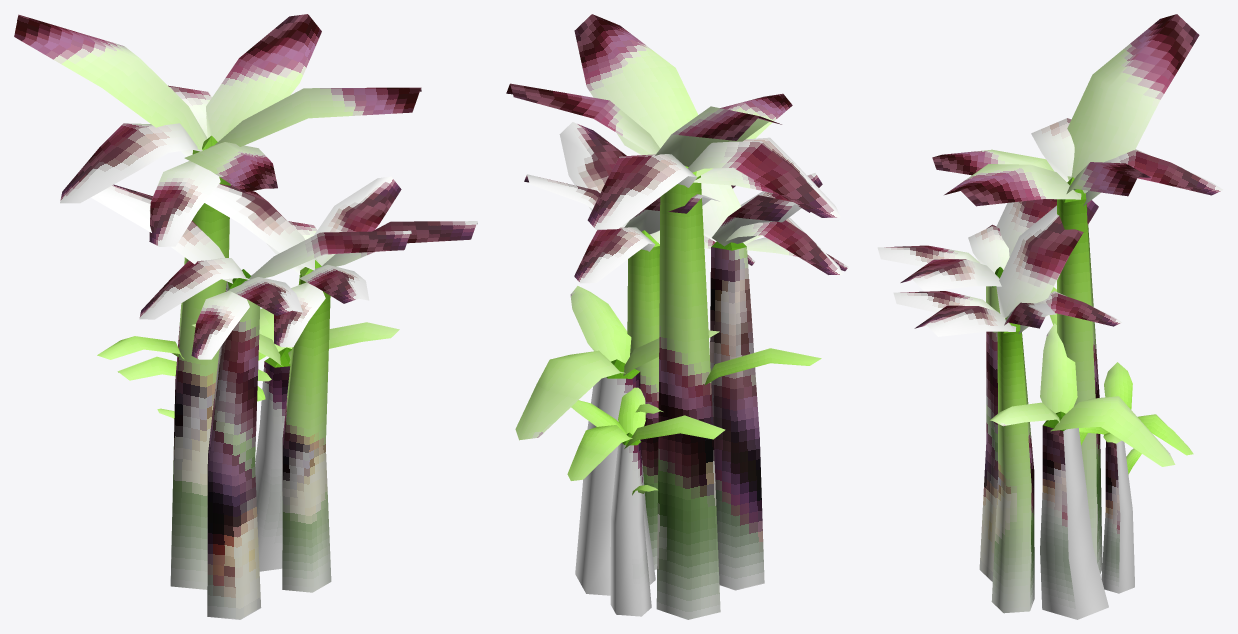
Rendered from botany_000008_02.FBX.
3 renders of one model, left to right at view 1: azimuth 30°, elevation 25°; view 2: azimuth 150°, elevation 25°; view 3: azimuth 270°, elevation 25°, orthographic. The views are drawn at different scales.
Parts seen in each view (by area): view 1: botany_000008_02; view 2: botany_000008_02; view 3: botany_000008_02.
Part boxes in pixels (bbox=[...]): botany_000008_02: bbox=[14, 14, 477, 619]; botany_000008_02: bbox=[506, 14, 848, 619]; botany_000008_02: bbox=[877, 14, 1222, 619].
Size of the model in its own units: 75.3 by 115 by 71.18.
